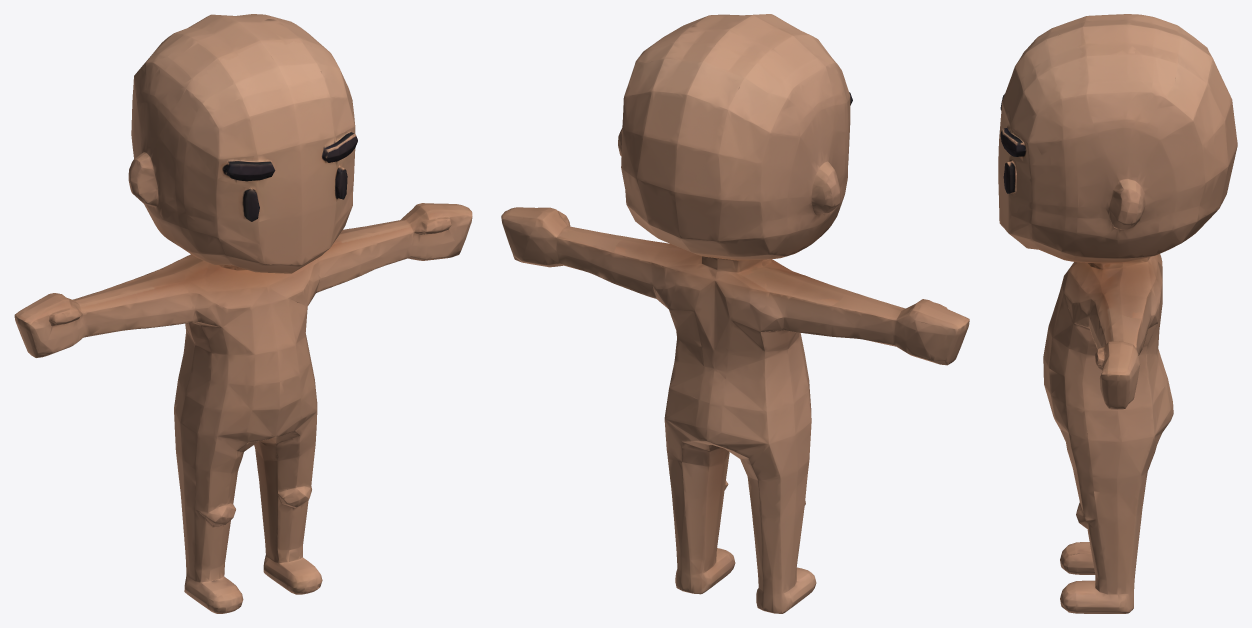
Rendered from cuerpo-F-h.glb.
3 views of the same model, side by side, from view 1: azimuth 30°, elevation 25°; view 2: azimuth 150°, elevation 25°; view 3: azimuth 270°, elevation 25° (orthographic). The views are drawn at different scales.
Parts seen in each view (by area): view 1: node_0; view 2: node_0; view 3: node_0.
Boxes of the visible parts, x1,y1,x2,y2 form: node_0: (14,14,472,613); node_0: (501,14,969,613); node_0: (998,14,1237,613).
Bounding box in the file's own units: 0.9866 × 1.17 × 0.4503.
1 material, 1 textured.
